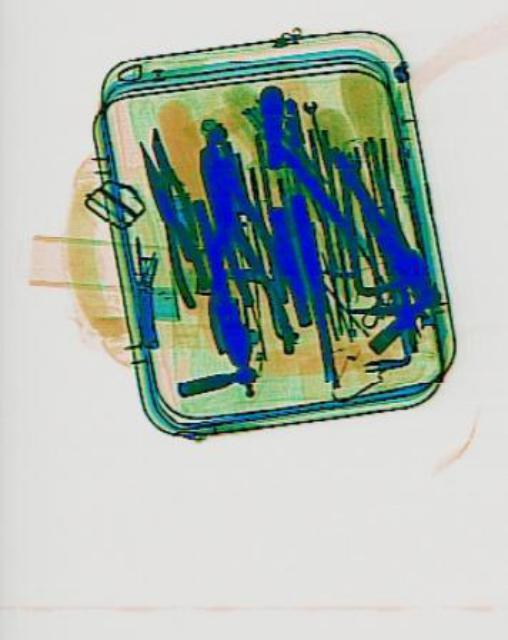Pliers: (170, 137, 292, 370), (191, 127, 287, 321), (135, 123, 214, 309)
Wrench: (297, 95, 333, 169)
